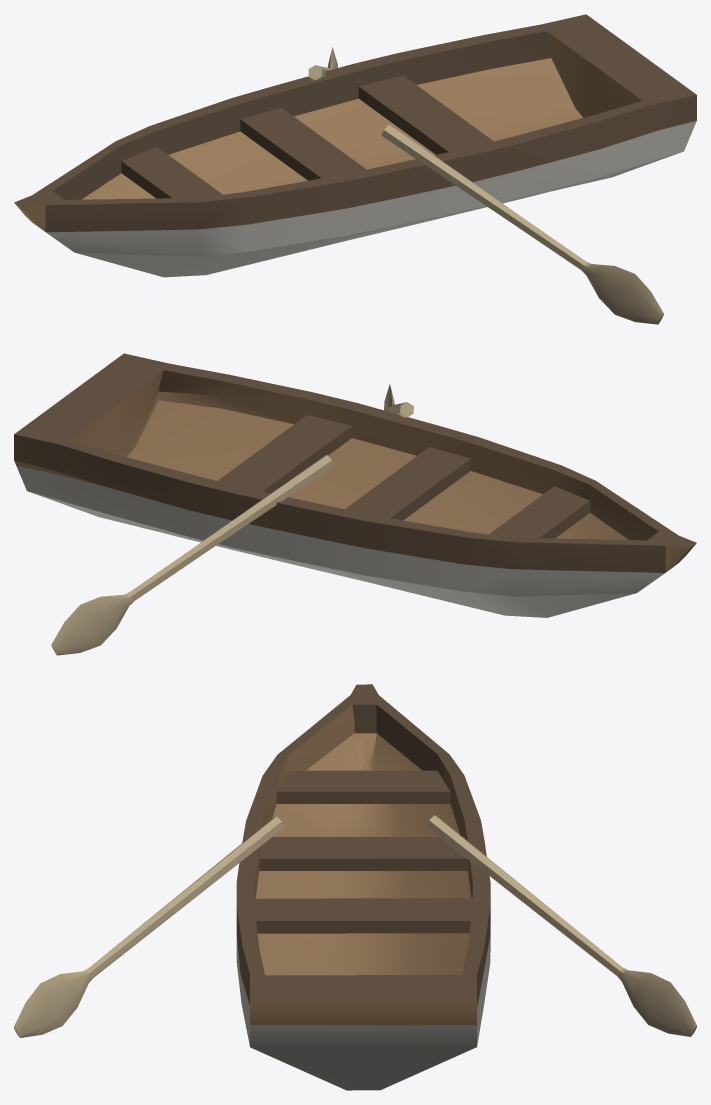
Rendered from Row Boat_Oars out.fbx.
3 views of the same model, one above another, from view 1: azimuth 30°, elevation 25°; view 2: azimuth 150°, elevation 25°; view 3: azimuth 270°, elevation 25° (orthographic). The views are drawn at different scales.
Parts seen in each view (by area): view 1: polySurface274; view 2: polySurface274; view 3: polySurface274.
Boxes of the visible parts, left/top/right/bottom form: polySurface274: left=14, top=14, right=696, bottom=324; polySurface274: left=14, top=353, right=696, bottom=655; polySurface274: left=14, top=684, right=696, bottom=1090.
Bounding box in the file's own units: 6.54 × 1.5 × 6.03.
Materials: 1 (1 with a texture image).
